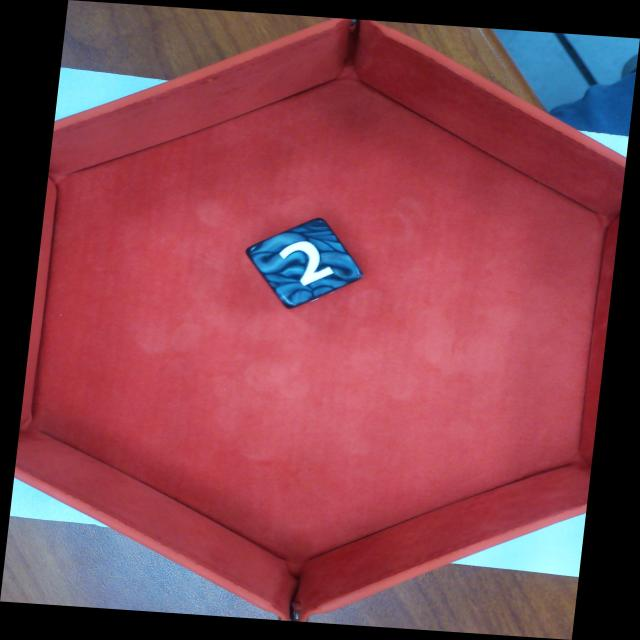dice: (249, 215, 364, 307)
